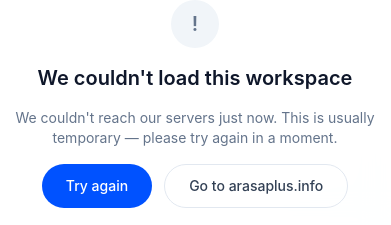
TenantProvider tenant lookup › never renders app content while a retry is in flight
Expected: the heading "We couldn't load this workspace" is shown, [38,64,352,92]
Click the button "Try again": click(97, 186) [42,164,152,208]
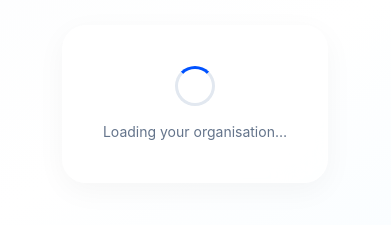
Now the text "Loading your organisation…" is shown, box [103,122,287,142]
